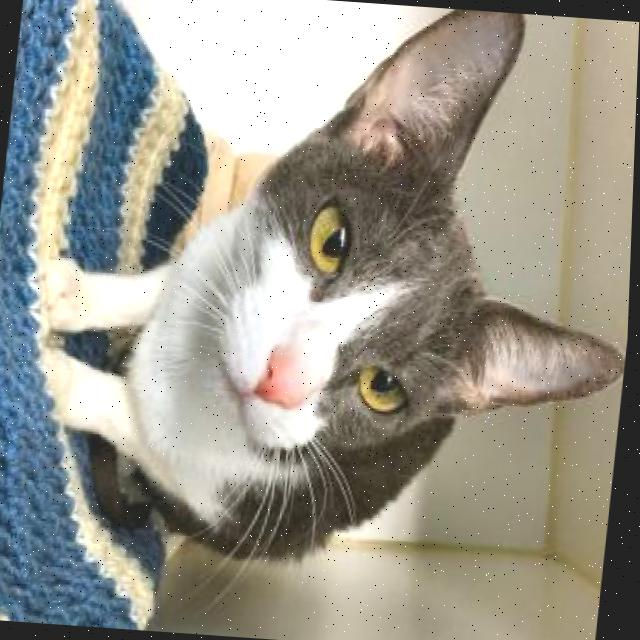Cornish Rex: (12, 0, 640, 595)
